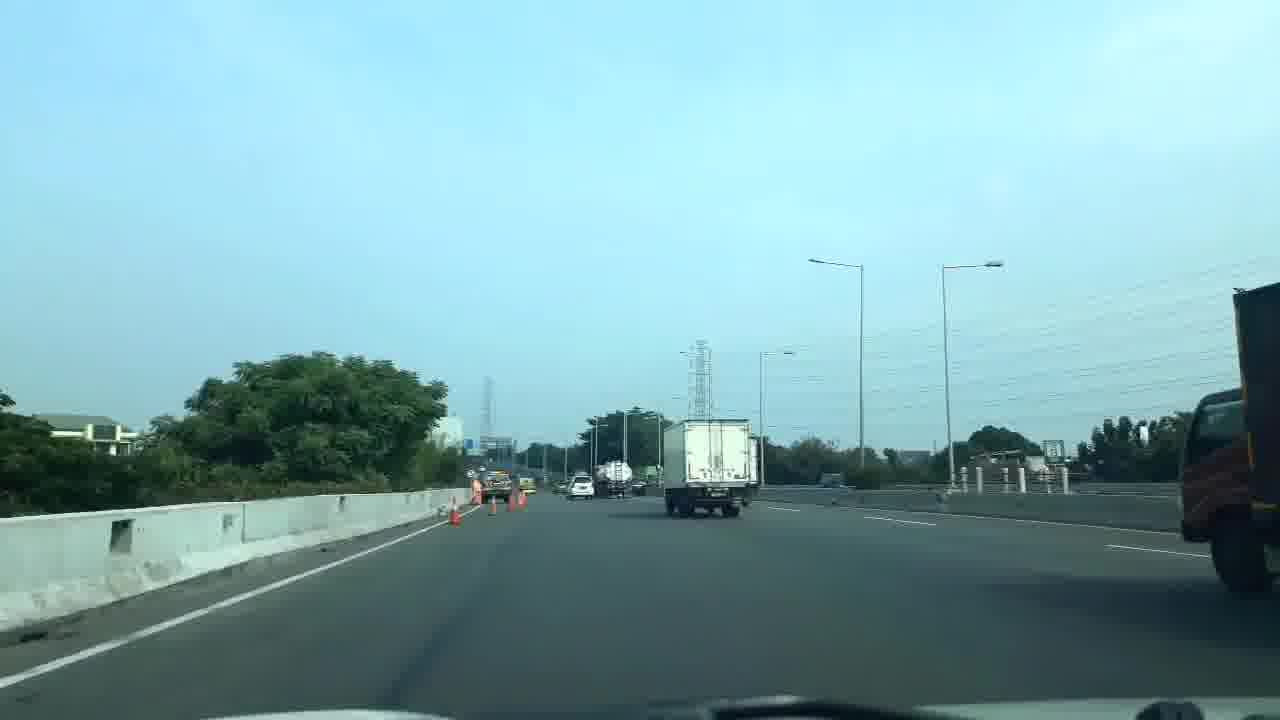plate_positive: (711, 491, 728, 498)
